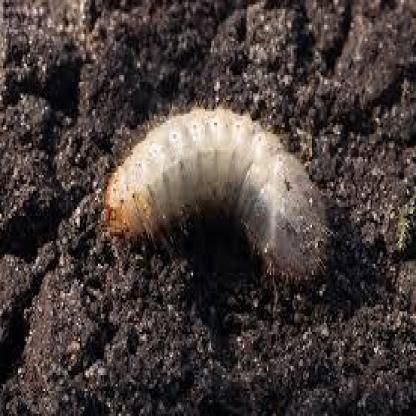root grubs: (102, 102, 324, 289)
